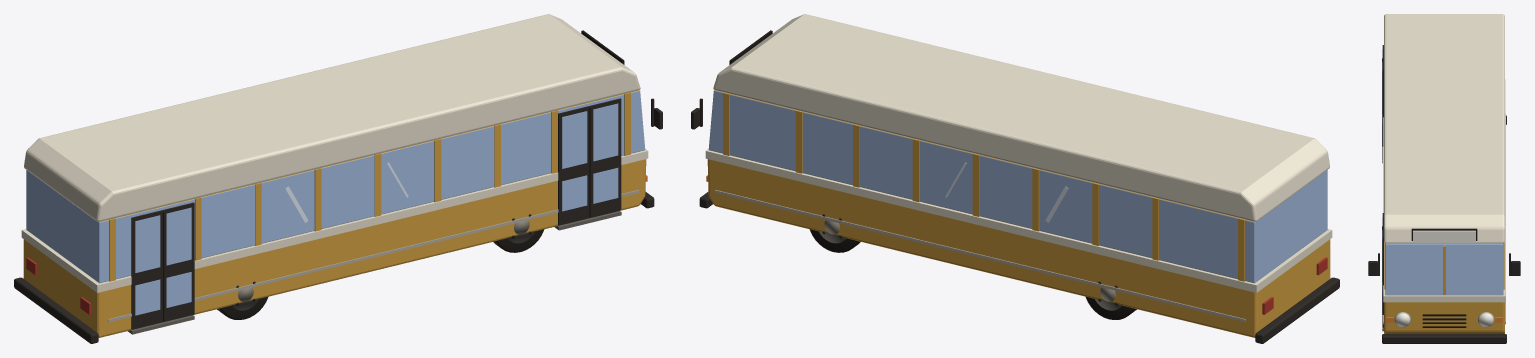
Rendered from VH_Bus.glb.
The picture shows the model from 3 angles, left to right: view 1: azimuth 30°, elevation 25°; view 2: azimuth 150°, elevation 25°; view 3: azimuth 270°, elevation 25°; orthographic projection. The views are drawn at different scales.
Parts seen in each view (by area): view 1: belt; view 2: belt; view 3: belt.
Part boxes in pixels (x1,y1,x2,y2): belt: [14, 14, 662, 343]; belt: [691, 14, 1339, 343]; belt: [1368, 14, 1520, 343].
Size of the model in its own units: 10.84 by 2.95 by 3.14.
